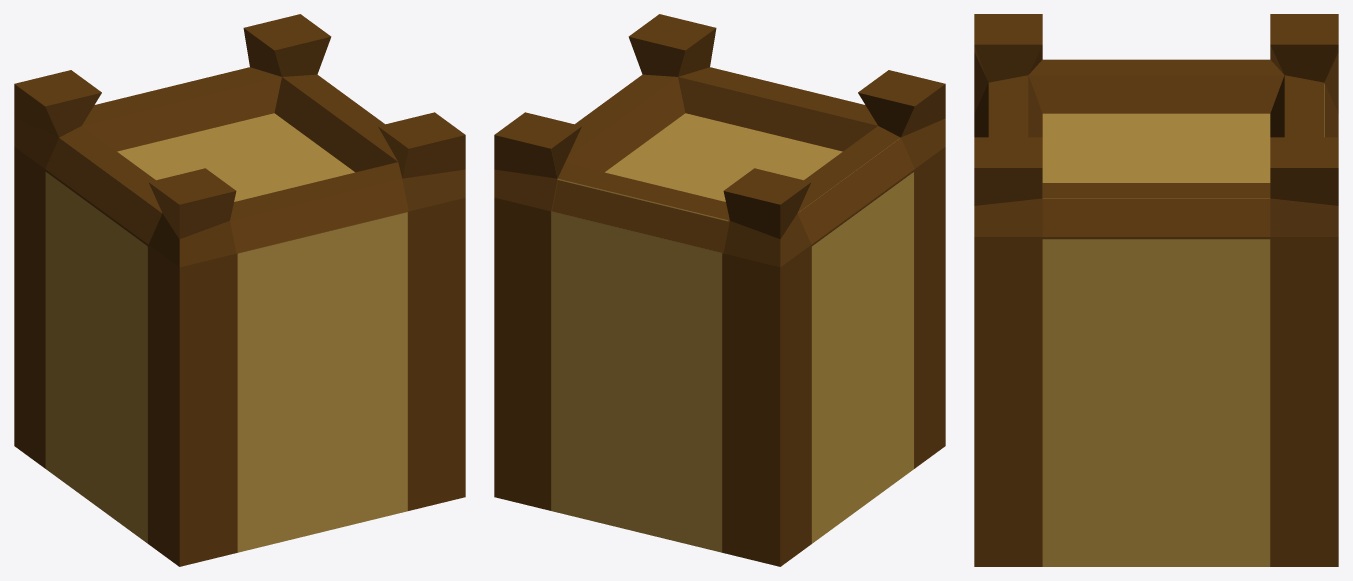
Rendered from Diggable Terrain.fbx.
3 views of the same model, side by side, from view 1: azimuth 30°, elevation 25°; view 2: azimuth 150°, elevation 25°; view 3: azimuth 270°, elevation 25° (orthographic). The views are drawn at different scales.
Parts seen in each view (by area): view 1: pCube16; view 2: pCube16; view 3: pCube16.
Part boxes in pixels (<box>): pCube16: <box>14,14,465,566</box>; pCube16: <box>494,14,945,566</box>; pCube16: <box>974,14,1338,566</box>.
Bounding box in the file's own units: 4 × 4.84 × 4.
